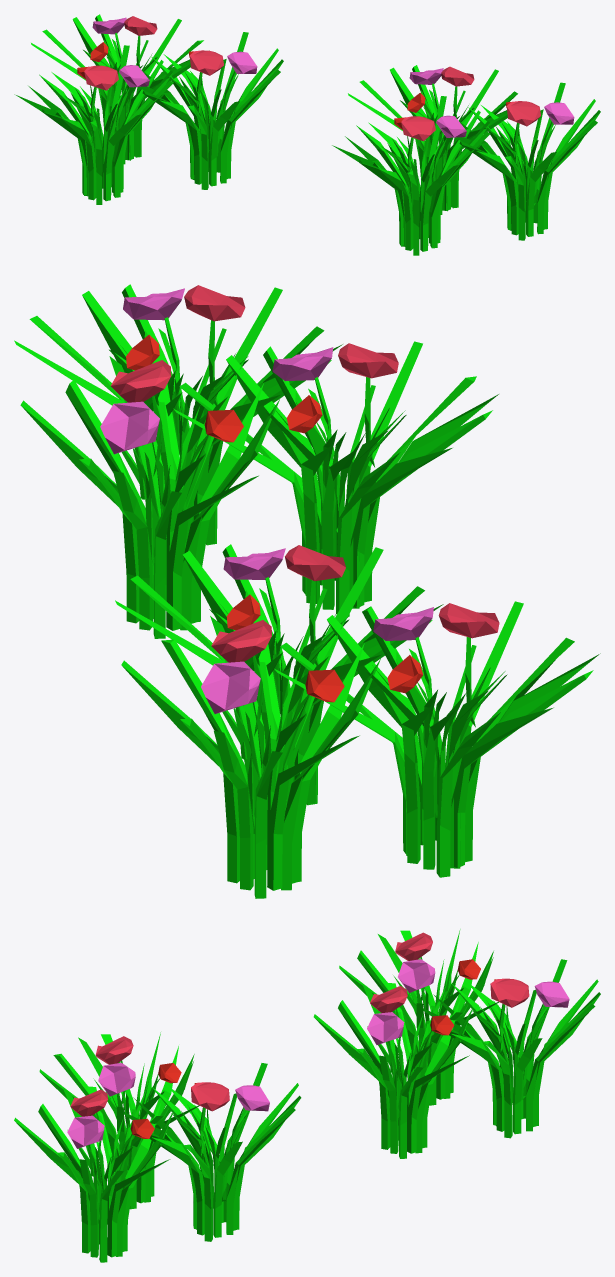
The model's file is cvece 6.fbx.
3 renders of one model, top to bottom at view 1: azimuth 30°, elevation 25°; view 2: azimuth 150°, elevation 25°; view 3: azimuth 270°, elevation 25°, orthographic. The views are drawn at different scales.
Parts seen in each view (by area): view 1: Cube.398; view 2: Cube.398; view 3: Cube.398.
Boxes of the visible parts, x1=… form: Cube.398: x1=14, y1=14, x2=600, y2=255; Cube.398: x1=14, y1=284, x2=600, y2=898; Cube.398: x1=14, y1=929, x2=600, y2=1262.
Size of the model in its own units: 324 by 96.15 by 333.
